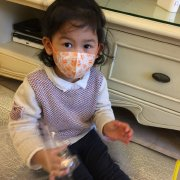face_mask: (51, 22, 97, 76)
